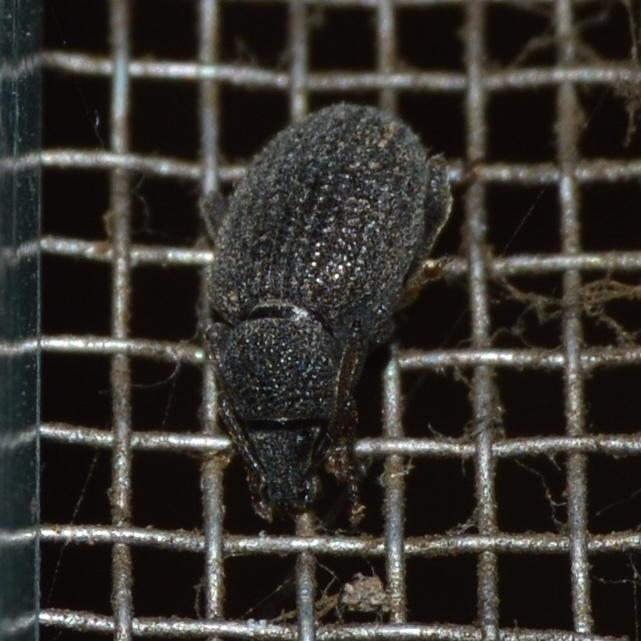weevils: (90, 35, 543, 585)
